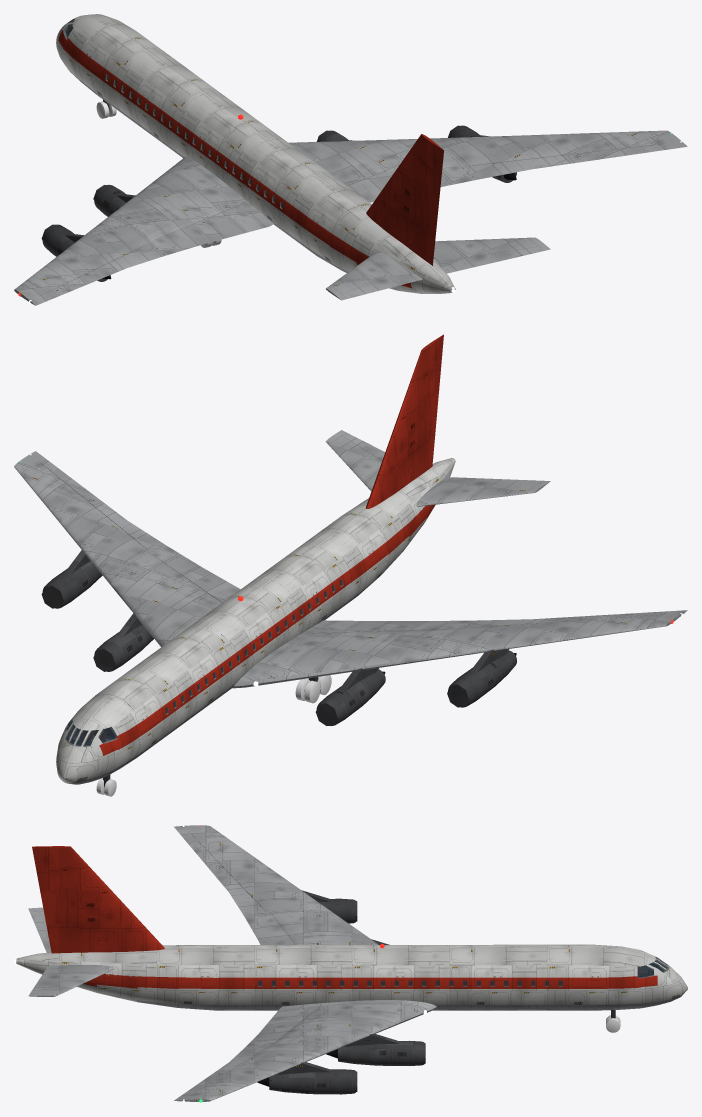
Rendered from airliner.glb.
3 views of the same model, one above another, from view 1: azimuth 30°, elevation 25°; view 2: azimuth 150°, elevation 25°; view 3: azimuth 270°, elevation 25° (orthographic). The views are drawn at different scales.
Visible parts, largest first — view 1: fuselage_cabin_fwd.L0, fuselage_cabin_aft.L0, fuselage_centre.L0, wing_l_inner.L0, fuselage_tail.L0, wing_r_outer.L0, wing_l_outer.L0, fin.L0, wing_r_inner.L0, flap_l.L0, aileron_r.L1, fuselage_nose.L0 (+23 smaller); view 2: fuselage_cabin_fwd.L0, fuselage_cabin_aft.L0, wing_l_inner.L0, fuselage_nose.L0, fuselage_centre.L0, wing_r_outer.L0, wing_r_inner.L0, wing_l_outer.L0, fin.L0, fuselage_tail.L0, wing_l_outer.L1, wing_l_inner.L1 (+15 smaller); view 3: fuselage_cabin_fwd.L0, fuselage_cabin_aft.L0, fuselage_centre.L0, fuselage_tail.L0, fin.L0, fuselage_nose.L0, wing_r_inner.L0, wing_l_outer.L0, wing_r_outer.L0, nacelle_4.L0, nacelle_3.L0, wing_l_inner.L0 (+20 smaller).
Boxes of the visible parts, x1=… form: fuselage_cabin_fwd.L0: x1=81, y1=24, x2=222, y2=157; fuselage_cabin_aft.L0: x1=238, y1=139, x2=371, y2=268; fuselage_centre.L0: x1=175, y1=92, x2=286, y2=195; wing_l_inner.L0: x1=111, y1=157, x2=273, y2=254; fuselage_tail.L0: x1=328, y1=204, x2=455, y2=293; wing_r_outer.L0: x1=430, y1=130, x2=687, y2=177; wing_l_outer.L0: x1=14, y1=214, x2=152, y2=305; fin.L0: x1=366, y1=134, x2=443, y2=265; wing_r_inner.L0: x1=288, y1=139, x2=462, y2=182; flap_l.L0: x1=154, y1=202, x2=270, y2=254; aileron_r.L1: x1=470, y1=144, x2=670, y2=178; fuselage_nose.L0: x1=56, y1=14, x2=127, y2=88; fuselage_cabin_fwd.L0: x1=92, y1=625, x2=236, y2=759; fuselage_cabin_aft.L0: x1=252, y1=514, x2=387, y2=635; wing_l_inner.L0: x1=232, y1=620, x2=462, y2=688; fuselage_nose.L0: x1=56, y1=694, x2=142, y2=784; fuselage_centre.L0: x1=188, y1=579, x2=299, y2=690; wing_r_outer.L0: x1=14, y1=451, x2=163, y2=584; wing_r_inner.L0: x1=110, y1=551, x2=215, y2=647; wing_l_outer.L0: x1=421, y1=610, x2=687, y2=661; fin.L0: x1=366, y1=334, x2=443, y2=508; fuselage_tail.L0: x1=342, y1=458, x2=455, y2=573; wing_l_outer.L1: x1=423, y1=611, x2=682, y2=657; wing_l_inner.L1: x1=235, y1=620, x2=474, y2=688; fuselage_cabin_fwd.L0: x1=442, y1=944, x2=604, y2=1010; fuselage_cabin_aft.L0: x1=180, y1=945, x2=332, y2=1010; fuselage_centre.L0: x1=333, y1=945, x2=442, y2=1010; fuselage_tail.L0: x1=16, y1=945, x2=179, y2=1007; fin.L0: x1=32, y1=846, x2=164, y2=953; fuselage_nose.L0: x1=604, y1=945, x2=687, y2=1010; wing_r_inner.L0: x1=266, y1=1000, x2=436, y2=1048; wing_l_outer.L0: x1=174, y1=825, x2=336, y2=915; wing_r_outer.L0: x1=174, y1=1042, x2=338, y2=1101; nacelle_4.L0: x1=269, y1=1062, x2=355, y2=1094; nacelle_3.L0: x1=338, y1=1034, x2=424, y2=1065; wing_l_inner.L0: x1=266, y1=911, x2=378, y2=944.
Size of the model in its own units: 40.05 by 12.47 by 41.45.
Materials: 21 (14 with a texture image).
